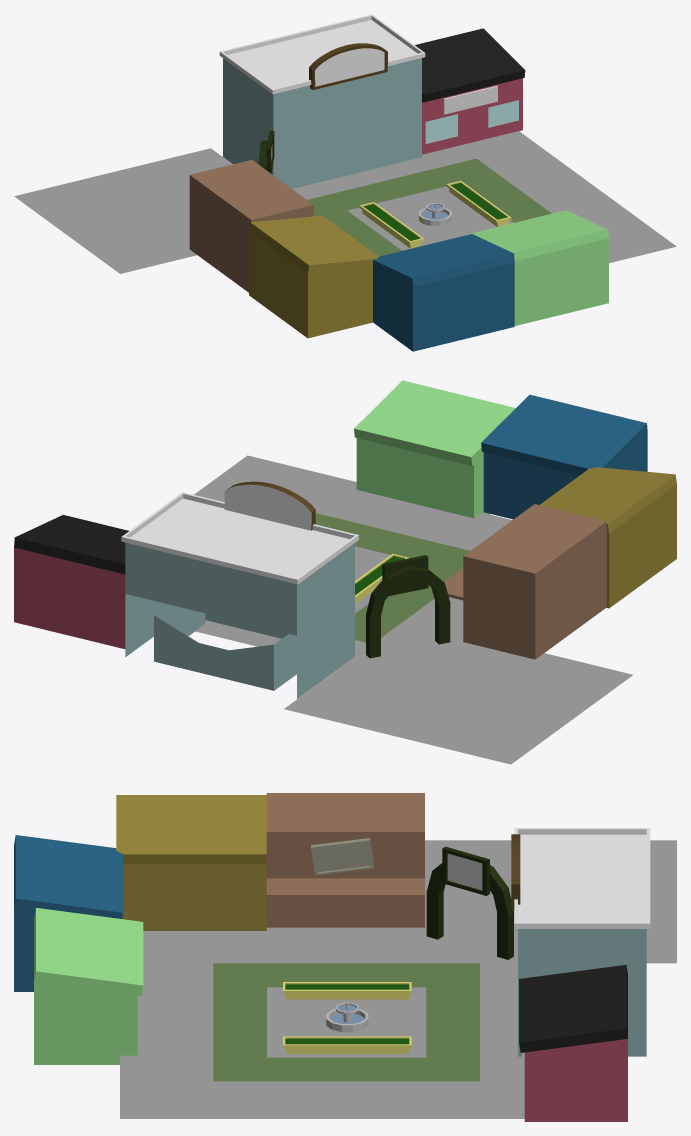
File: hubpatch.fbx
3 views of the same model, one above another, from view 1: azimuth 30°, elevation 25°; view 2: azimuth 150°, elevation 25°; view 3: azimuth 270°, elevation 25° (orthographic). The views are drawn at different scales.
Visible parts, largest first — view 1: Plane, Cube.004, Cube.008, Cube.005, Cube.007, Cube.006, Cube.002, Cube.001, Cylinder; view 2: Plane, Cube.004, Cube.002, Cube.006, Cube.008, Cube.007, Cube.005, Cylinder, Cube.001; view 3: Plane, Cube.002, Cube.004, Cube.005, Cube.007, Cube.006, Cube.008, Cube.001, Cylinder.
Part boxes in pixels (x1,y1,x2,y2): Plane: (14, 131, 676, 273); Cube.004: (219, 14, 425, 188); Cube.008: (373, 234, 514, 351); Cube.005: (249, 215, 378, 338); Cube.007: (415, 28, 525, 154); Cube.006: (465, 210, 608, 325); Cube.002: (189, 160, 315, 292); Cube.001: (359, 180, 511, 248); Cylinder: (258, 131, 274, 173); Plane: (194, 455, 632, 764); Cube.004: (121, 481, 358, 698); Cube.002: (444, 504, 606, 659); Cube.006: (354, 380, 515, 518); Cube.008: (481, 394, 647, 519); Cube.007: (14, 515, 128, 648); Cube.005: (539, 467, 676, 608); Cylinder: (366, 555, 450, 658); Cube.001: (355, 553, 408, 603); Plane: (120, 840, 676, 1118); Cube.002: (266, 793, 424, 927); Cube.004: (511, 828, 650, 1056); Cube.005: (116, 795, 266, 930); Cube.007: (519, 965, 627, 1121); Cube.006: (34, 908, 143, 1064); Cube.008: (14, 835, 122, 991); Cube.001: (283, 982, 411, 1053); Cylinder: (426, 846, 513, 959).
Bounding box in the file's own units: 6197 × 1802 × 6176.
